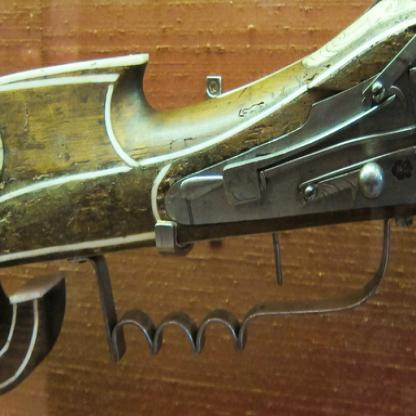gun: (0, 0, 415, 399)
